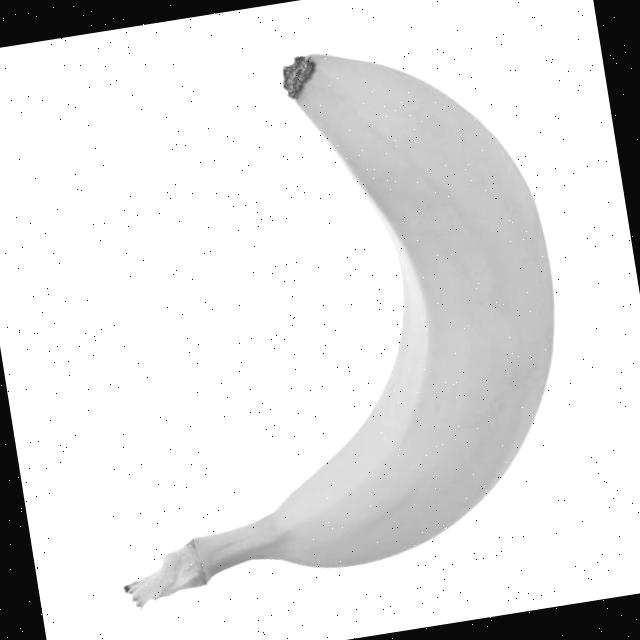Ripe: (118, 15, 598, 592)
